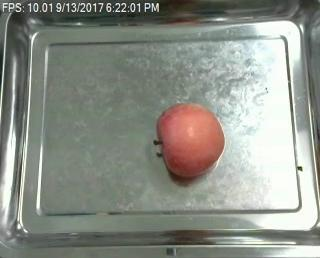apple: (154, 102, 226, 176)
